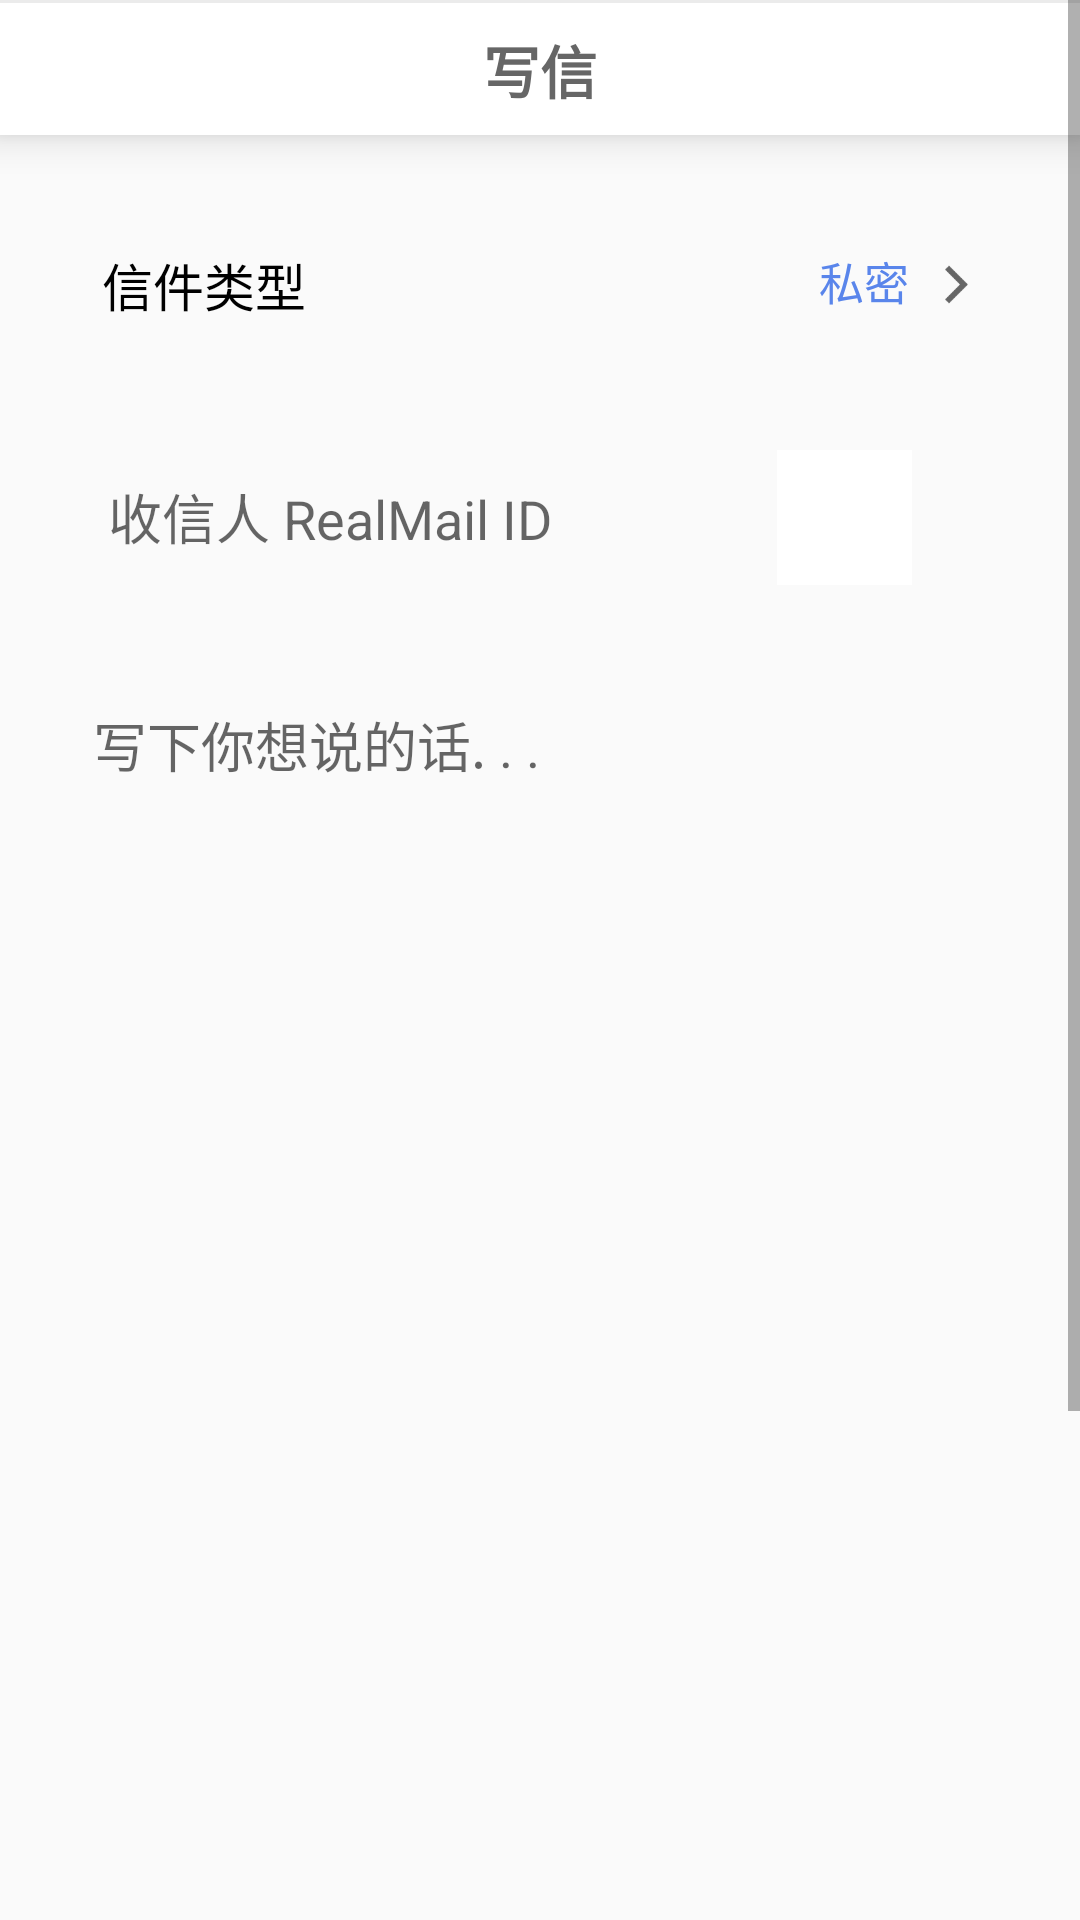

Icon bounding boxes for this 1080x1920 phone screenshot, format region(x1, y1, x2, y2):
pointer to right: region(945, 266, 968, 303)
